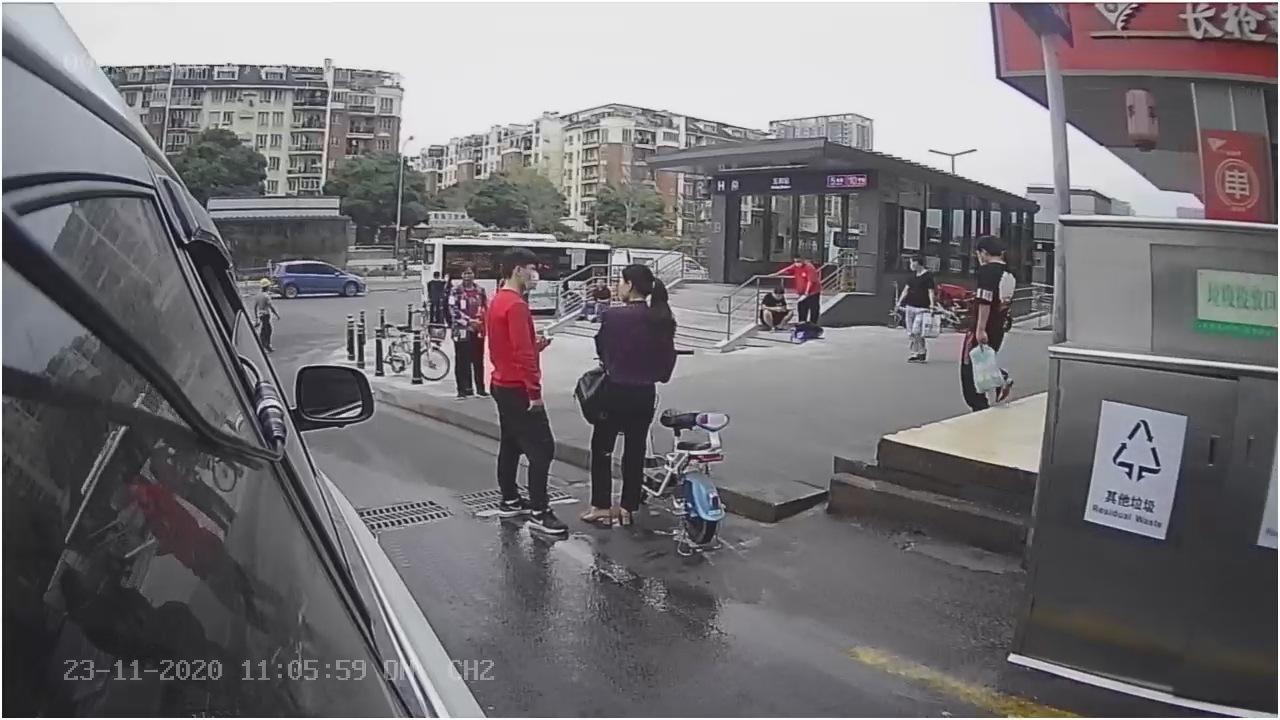person: (477, 248, 573, 539)
